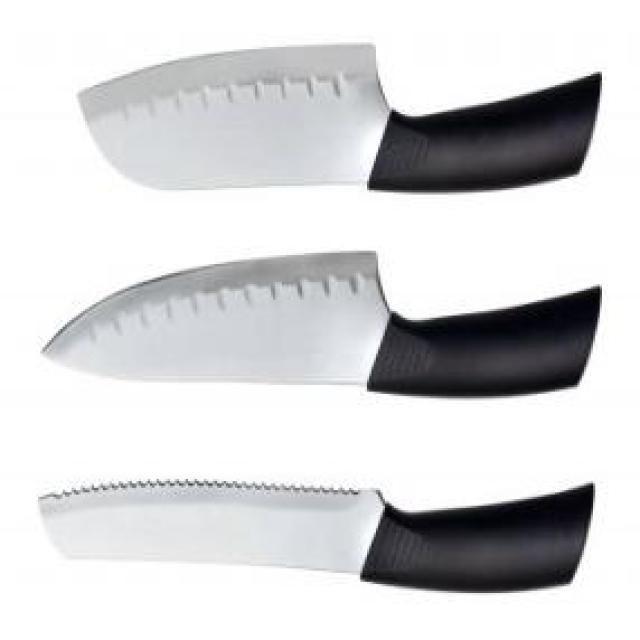knife: (38, 244, 613, 423), (78, 35, 603, 204), (34, 458, 596, 606)
